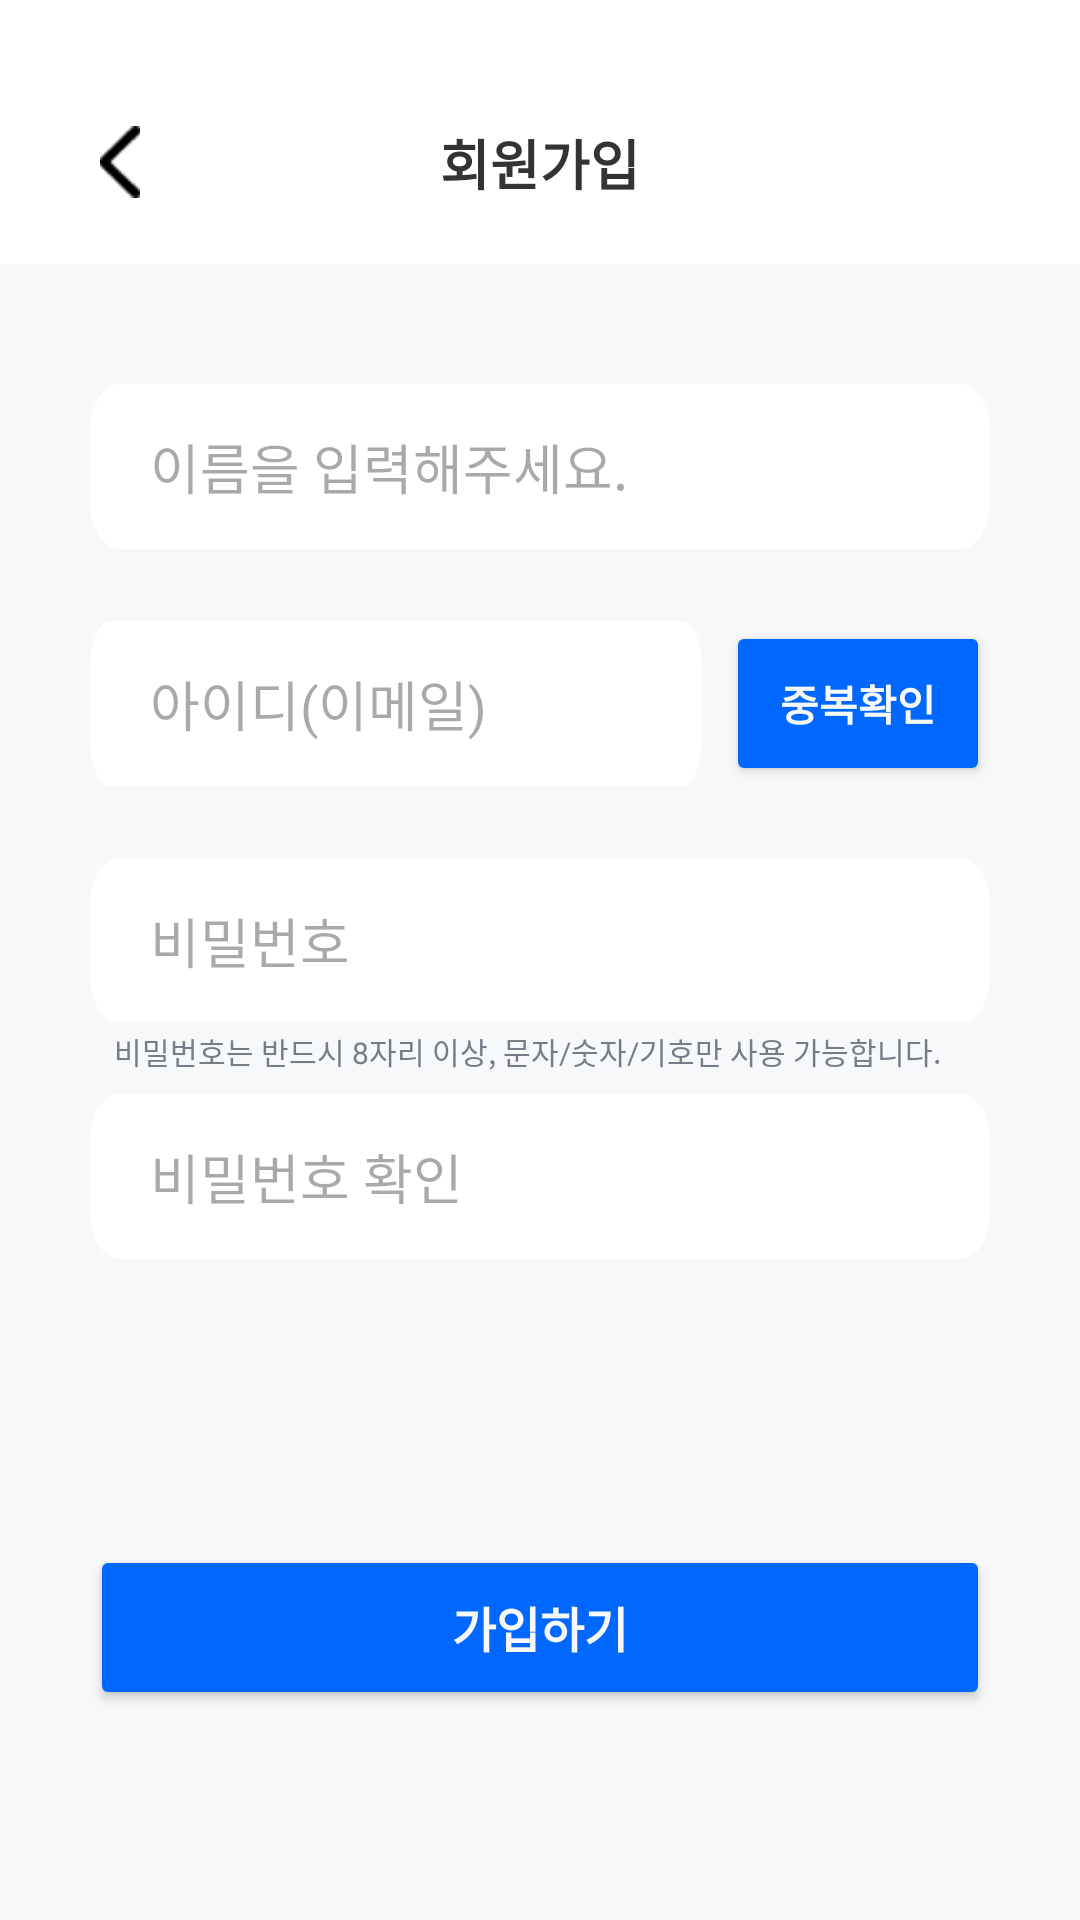

Locate icon controls on the screen. Image size 1080×1920, boxes as [x1=x1, y1=y1, x2=x2, y2=y2].
뒤로가기: [x1=100, y1=126, x2=140, y2=198]
